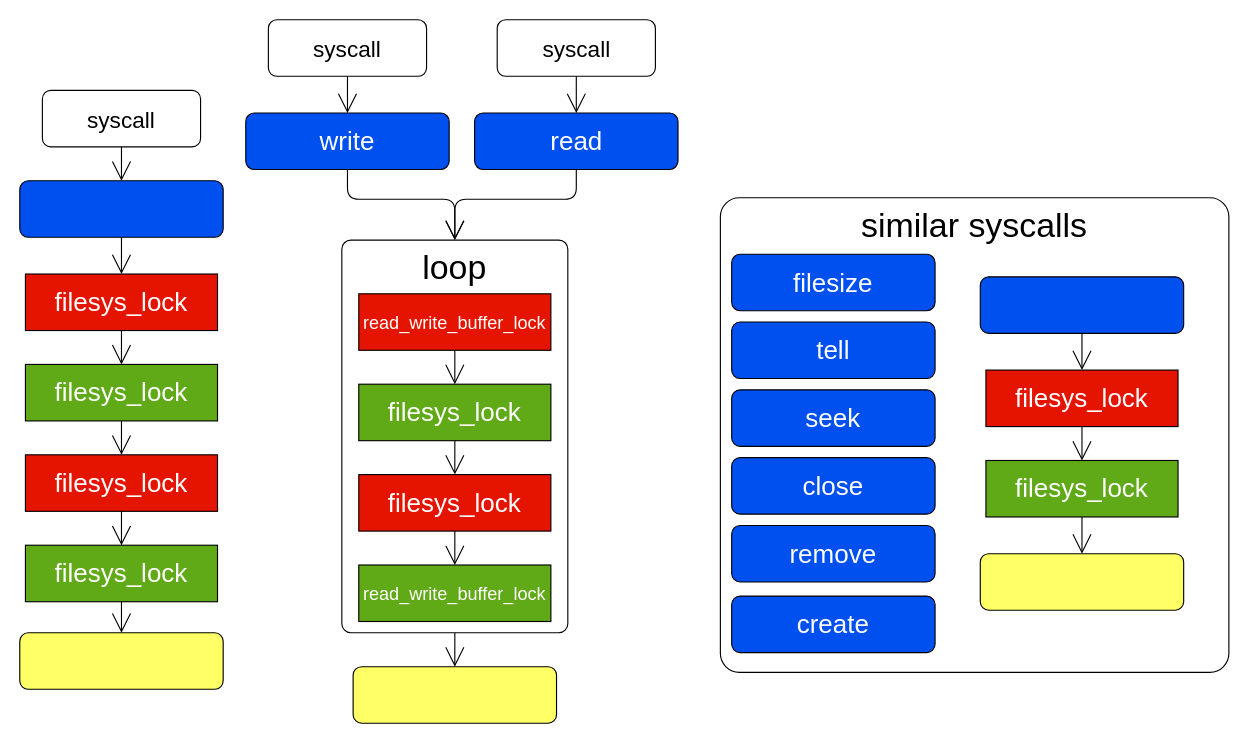
Some shapes in this 1249 by 744 pixel diagram are drawn without their labels. Here are the shapes that lost their labels. From the top down, the centre of each, then its label:
At [121,208]: "open".
At [1081,304]: "start".
At [1081,581]: "end".
At [121,660]: "open (syscall)".
At [454,694]: "write (syscall)".
